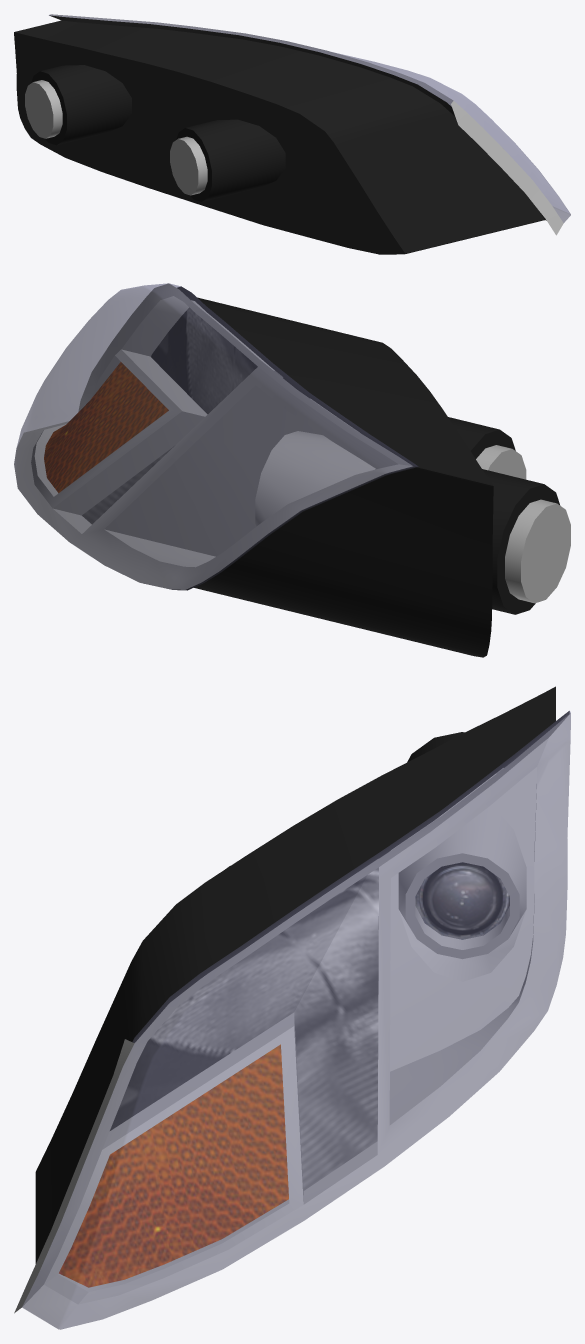
The picture shows the model from 3 angles, top to bottom: view 1: azimuth 30°, elevation 25°; view 2: azimuth 150°, elevation 25°; view 3: azimuth 270°, elevation 25°; orthographic projection. The views are drawn at different scales.
Parts seen in each view (by area): view 1: P345_061B_L_P345_061B_L_6_D, P345_061B_L_P345_061B_L_5_DaS, P345_061B_L_1_DTaSI_P345_061B_L; view 2: P345_061B_L_1_DTaSI_P345_061B_L, P345_061B_L_P345_061B_L_6_D, P345_061B_L_P345_061B_L_5_DaS, P345_061B_L_P345_061B_L_4_N, P345_061B_L_P345_061B_L_3_N; view 3: P345_061B_L_1_DTaSI_P345_061B_L, P345_061B_L_P345_061B_L_5_DaS, P345_061B_L_P345_061B_L_6_D, P345_061B_L_P345_061B_L_3_N, P345_061B_L_P345_061B_L_4_N, P345_061B_L_P345_061B_L_2_N.
Part boxes in pixels (left/top/right/bottom): P345_061B_L_P345_061B_L_6_D: left=14, top=15, right=546, bottom=254; P345_061B_L_P345_061B_L_5_DaS: left=25, top=14, right=570, bottom=235; P345_061B_L_1_DTaSI_P345_061B_L: left=49, top=14, right=570, bottom=222; P345_061B_L_1_DTaSI_P345_061B_L: left=14, top=283, right=418, bottom=590; P345_061B_L_P345_061B_L_6_D: left=172, top=286, right=560, bottom=657; P345_061B_L_P345_061B_L_5_DaS: left=14, top=283, right=570, bottom=603; P345_061B_L_P345_061B_L_4_N: left=44, top=362, right=168, bottom=492; P345_061B_L_P345_061B_L_3_N: left=82, top=307, right=257, bottom=524; P345_061B_L_1_DTaSI_P345_061B_L: left=22, top=711, right=570, bottom=1329; P345_061B_L_P345_061B_L_5_DaS: left=14, top=713, right=570, bottom=1329; P345_061B_L_P345_061B_L_6_D: left=35, top=686, right=569, bottom=1263; P345_061B_L_P345_061B_L_3_N: left=110, top=867, right=378, bottom=1190; P345_061B_L_P345_061B_L_4_N: left=59, top=1044, right=288, bottom=1287; P345_061B_L_P345_061B_L_2_N: left=415, top=862, right=509, bottom=939.
Size of the model in its own units: 52.44 by 22.45 by 35.85.
